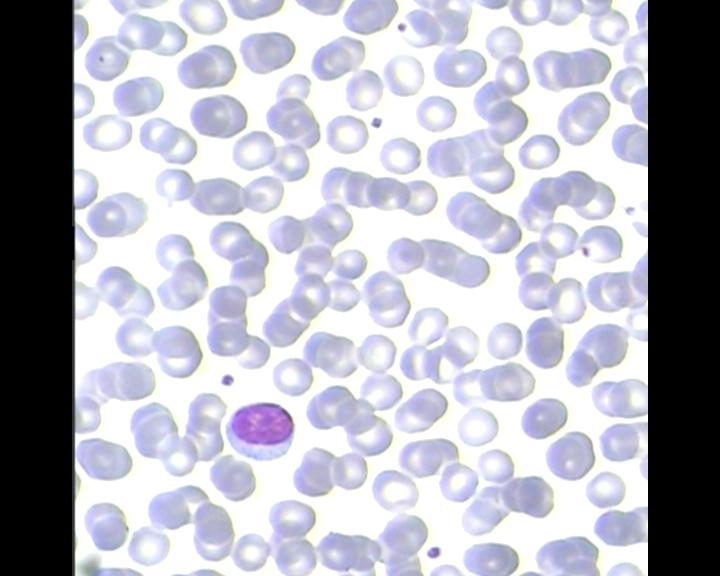lymp: (220, 398, 301, 462)
